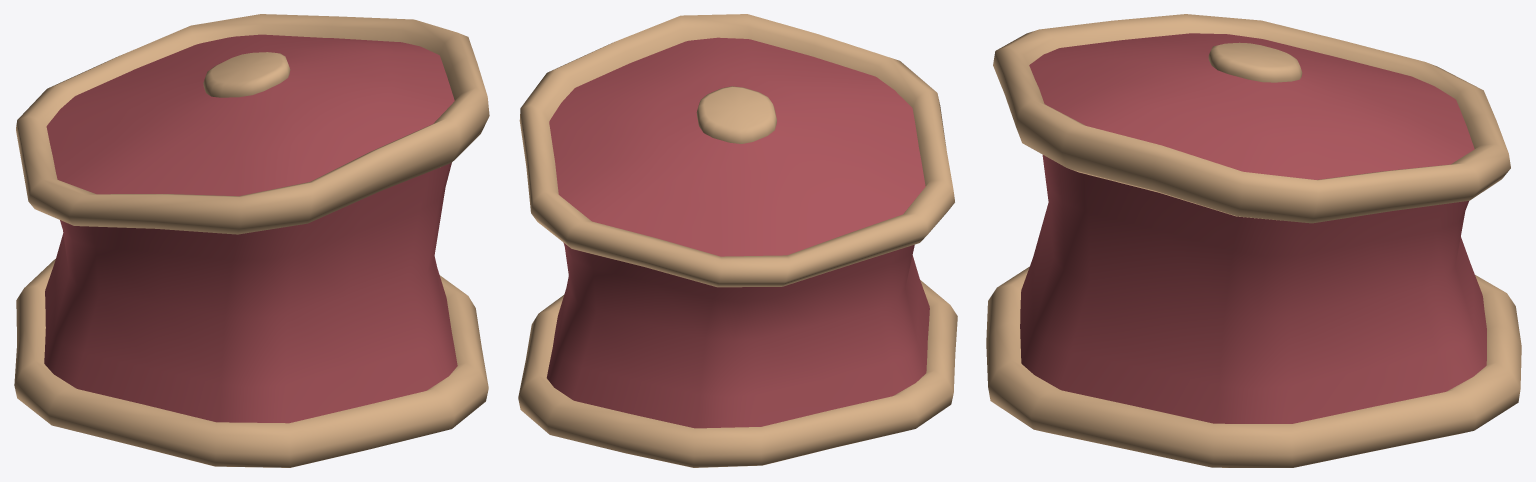
The model's file is props_pouf.fbx.
3 views of the same model, side by side, from view 1: azimuth 30°, elevation 25°; view 2: azimuth 150°, elevation 25°; view 3: azimuth 270°, elevation 25° (orthographic). The views are drawn at different scales.
Visible parts, largest first — view 1: Pouf; view 2: Pouf; view 3: Pouf.
Part boxes in pixels (x1,y1,x2,y2): Pouf: (14,14,489,467); Pouf: (518,14,957,467); Pouf: (986,14,1521,467).
Bounding box in the file's own units: 1.18 × 1.19 × 0.7884.
